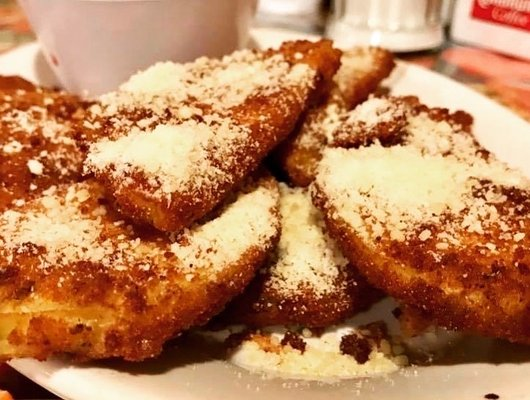pizza: (324, 1, 447, 54)
